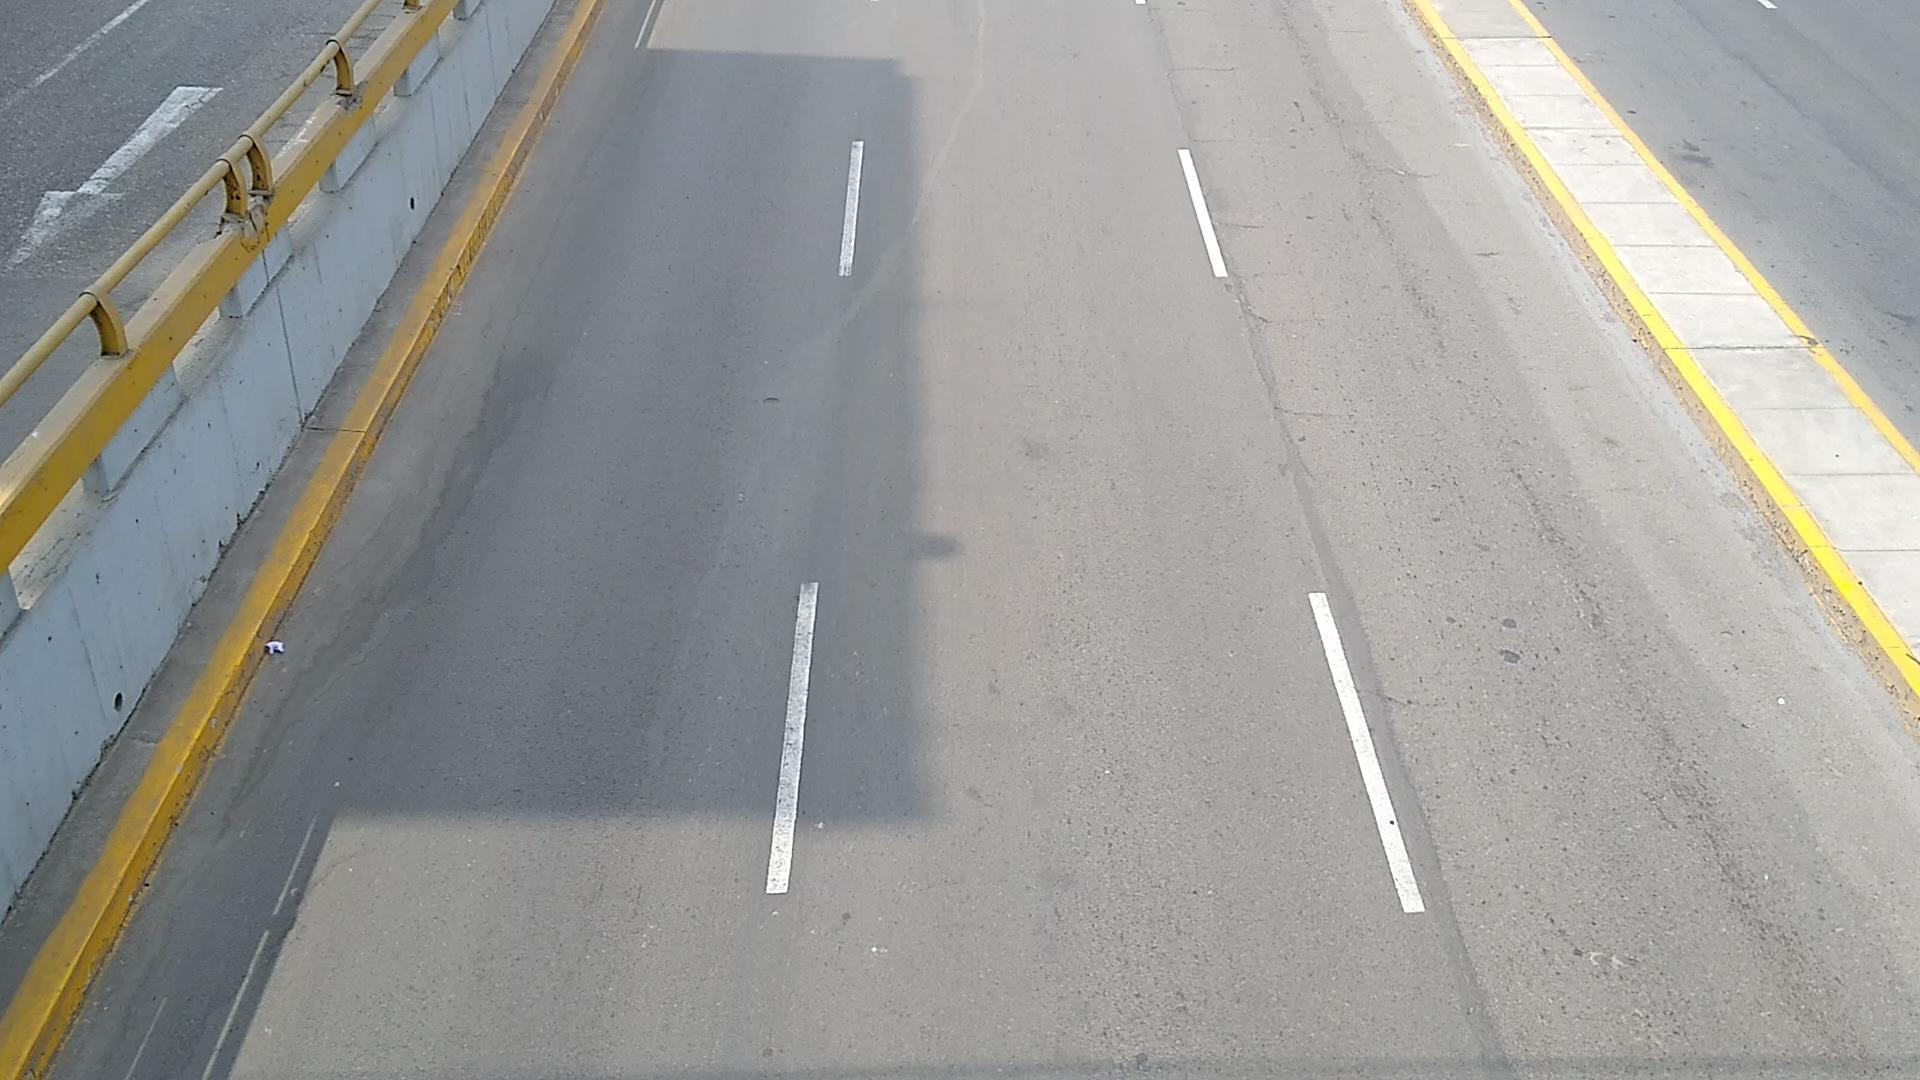car: (0, 323, 98, 456)
